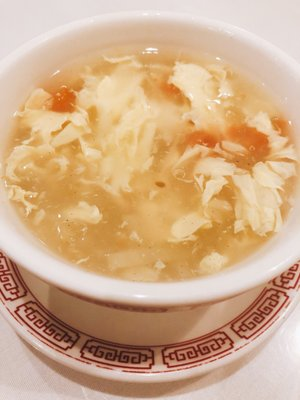sushi: (1, 10, 300, 375)
